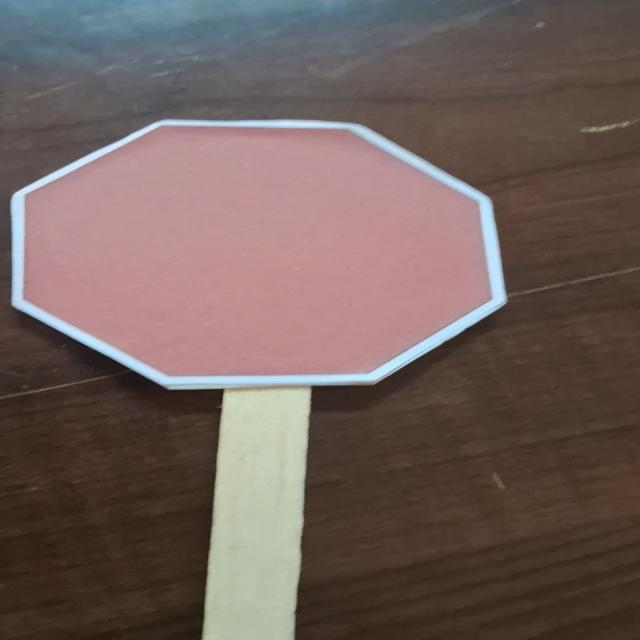Stop: (1, 116, 520, 394)
